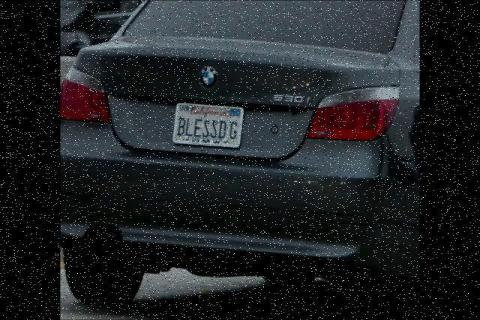LicensePlate: (172, 101, 243, 148)
